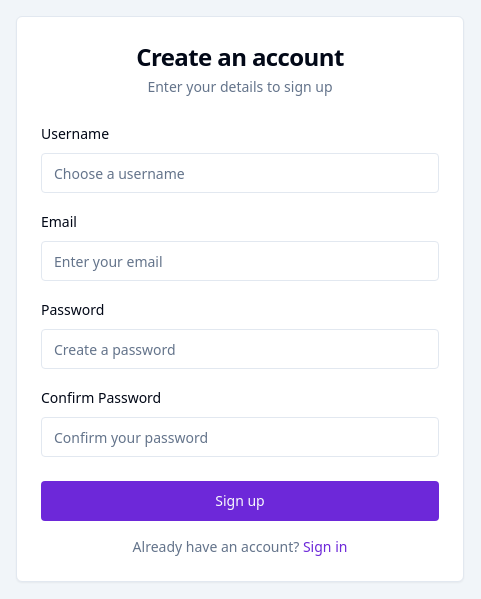
Test case: Signup › shows success message after successful signup
Type "newuser" into the field labelled "Username". click: (240, 173)
box: [41,153,439,193]
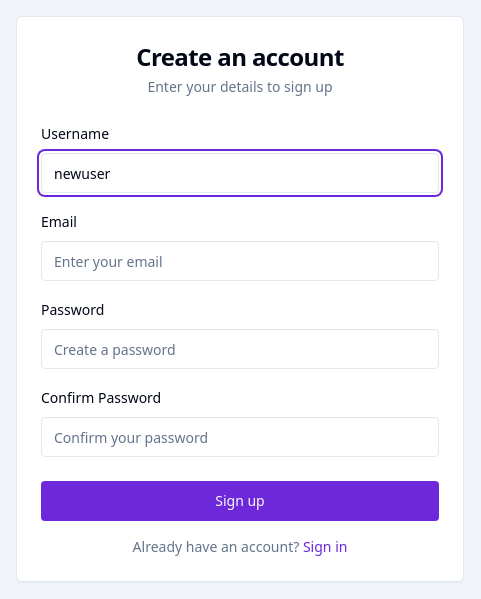
Type "newuser@example.com" into the field labelled "Email". click: (240, 261)
box: [41,241,439,281]
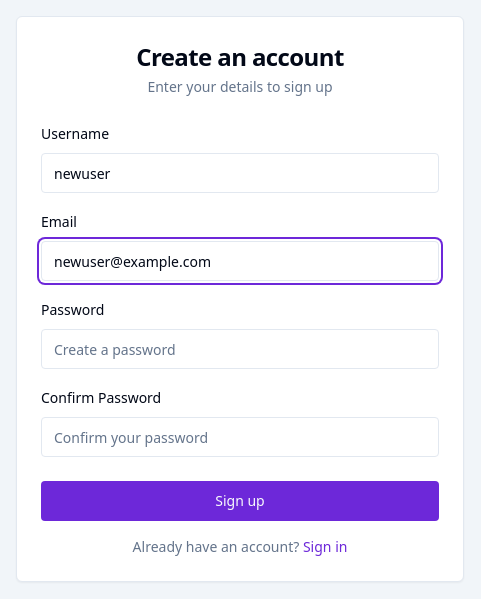
Type "password123" into the password field labelled "Password". click: (240, 349)
box: [41,329,439,369]
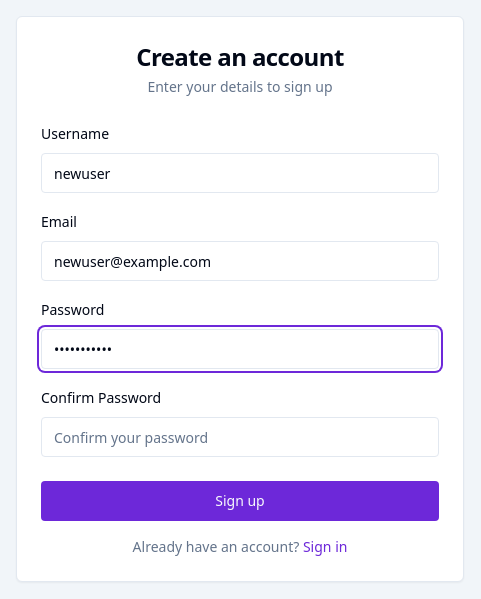
Type "password123" into the password field labelled "Confirm Password". click: (240, 437)
box: [41,417,439,457]
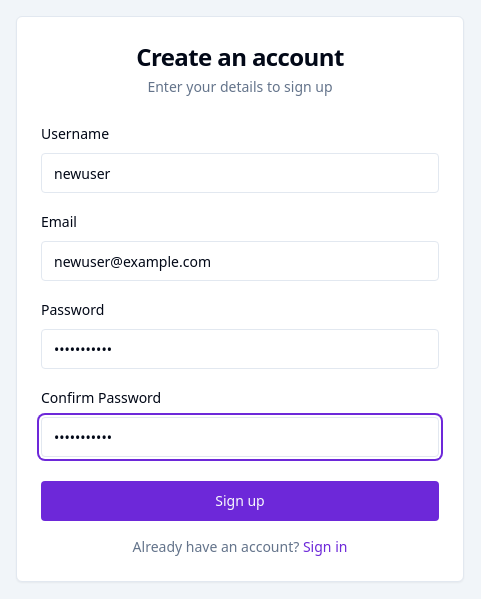
Click the button "Sign up". click: (240, 501)
box: [41,481,439,521]
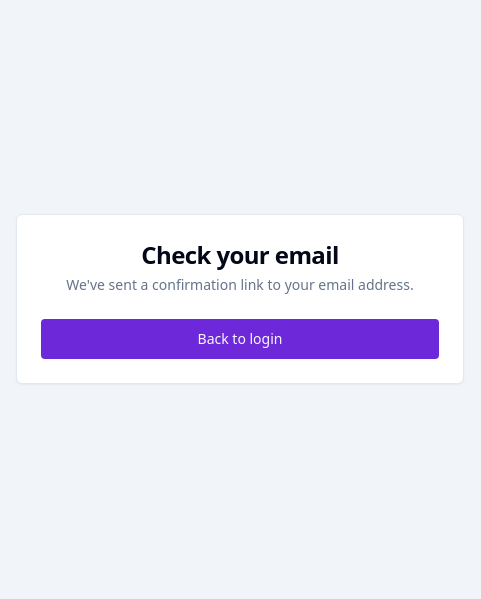
Check: the heading "Check your email" is shown, box [141,238,339,271]
